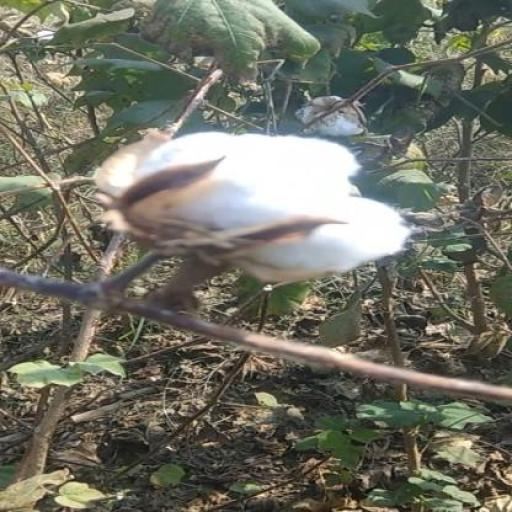cotton_ready: (84, 104, 413, 360)
